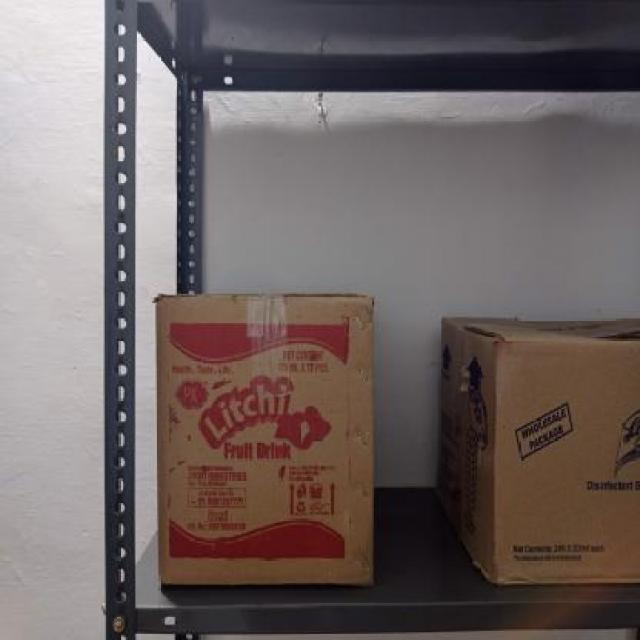box: (154, 294, 372, 586), (492, 333, 640, 575)
